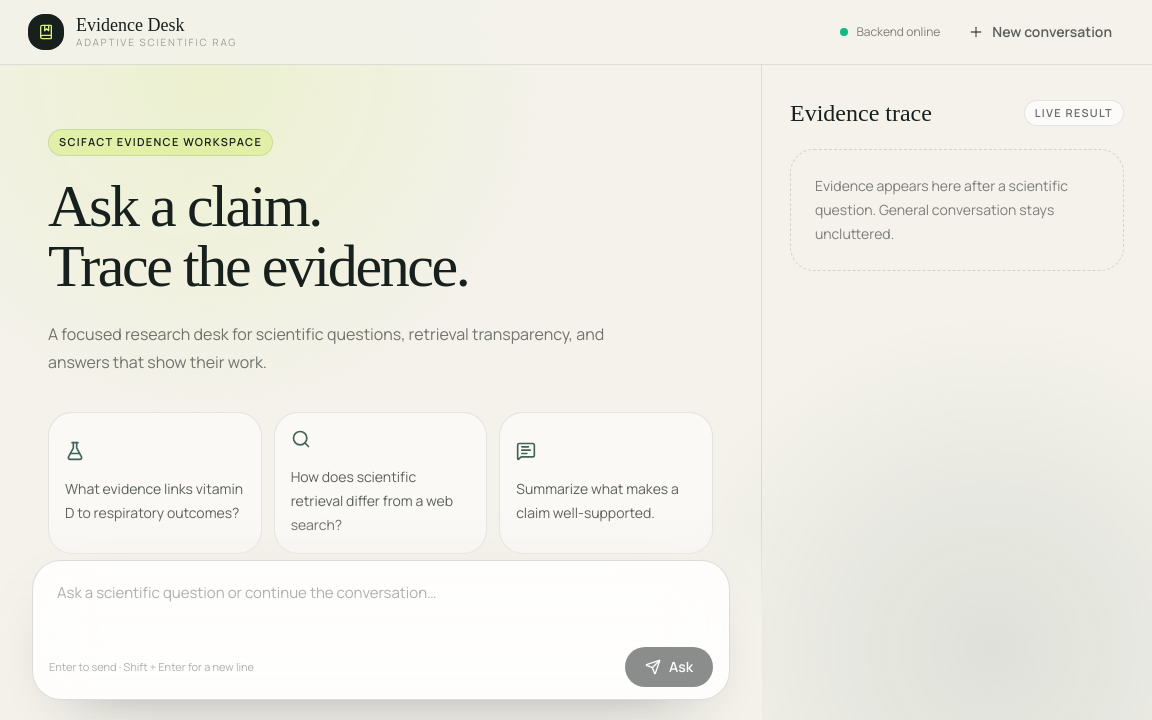
Test: research workspace › renders a scientific answer, verification, and evidence
Type "Does A cause B?" into the text box labelled "Ask a scientific question" at (381, 605), box [41,569,721,641]
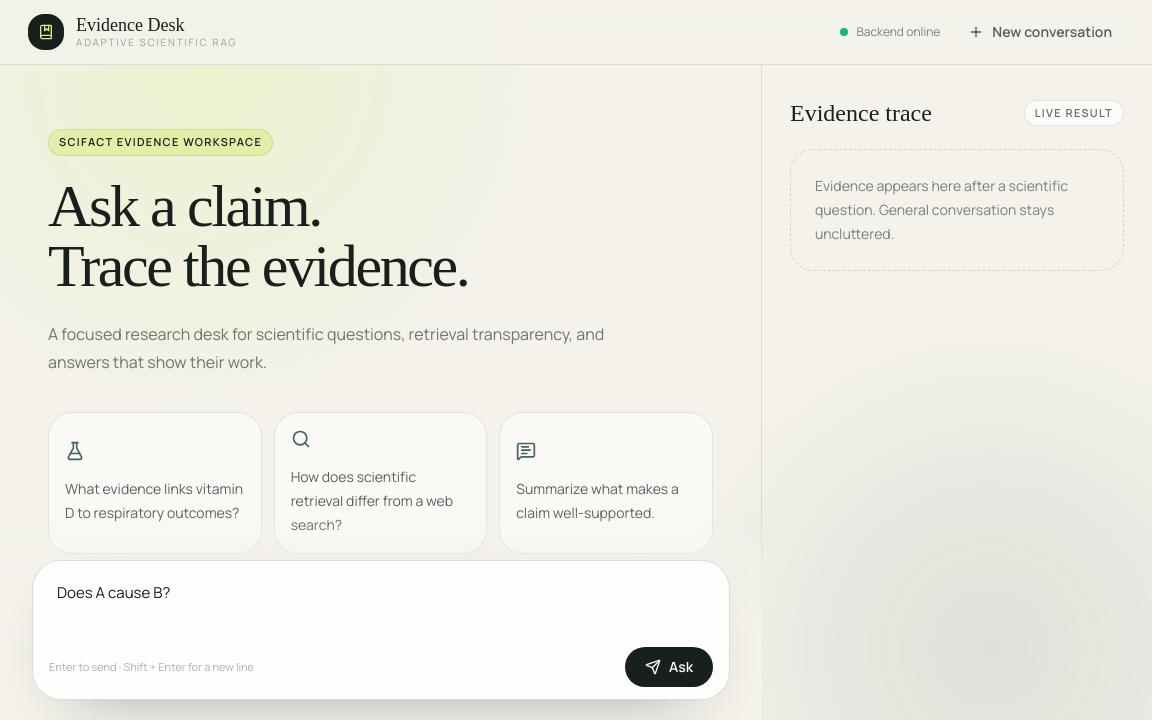
Click the button "Ask" at (669, 667), box [625,647,713,687]
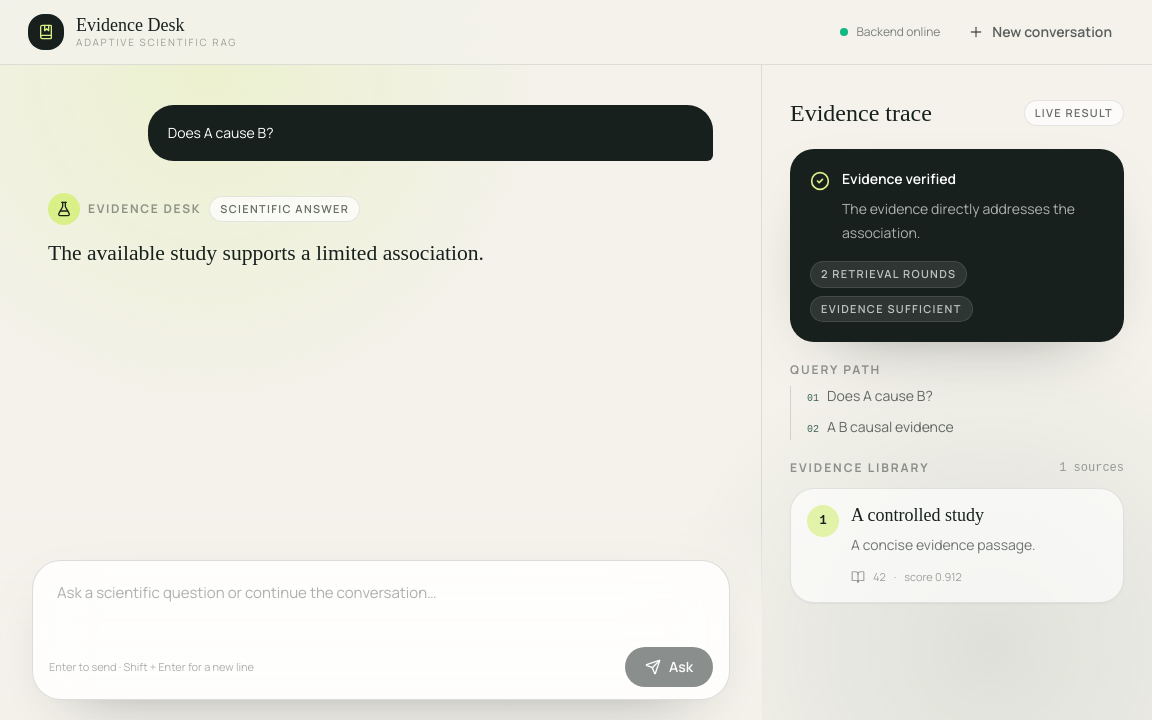
Now the text "The available study supports a limited association." is shown, box [48,241,484,265]
Now the text "Evidence verified" is shown, box [842,169,956,188]
Now the heading "A controlled study" is shown, box [851,505,984,525]
